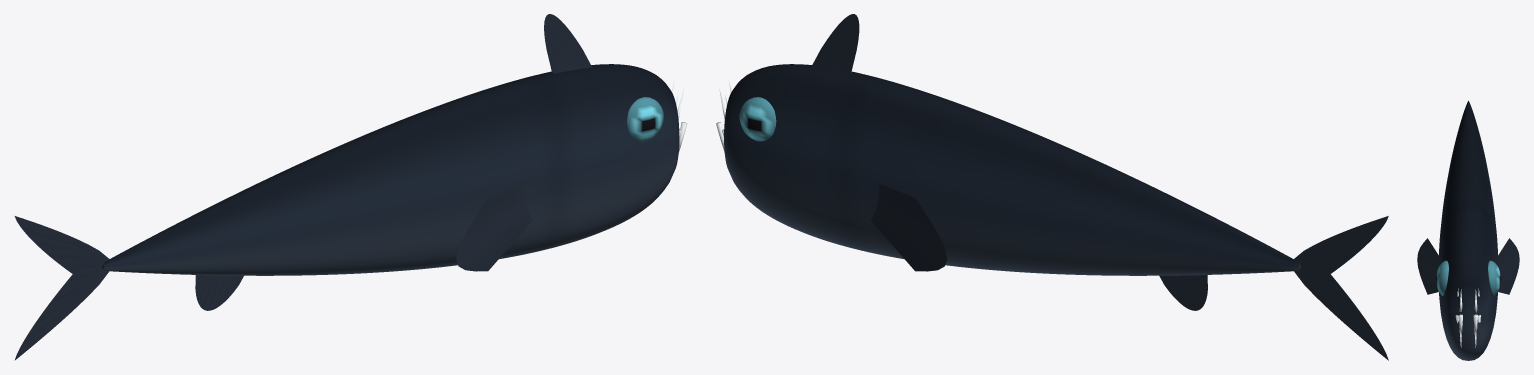
The model's file is engerek.glb.
The picture shows the model from 3 angles, left to right: view 1: azimuth 30°, elevation 25°; view 2: azimuth 150°, elevation 25°; view 3: azimuth 270°, elevation 25°; orthographic projection. The views are drawn at different scales.
Parts seen in each view (by area): view 1: engerek_govde, engerek_kuyruk, engerek_gogusL, engerek_sirt, engerek_gozL, engerek_anal_a; view 2: engerek_govde, engerek_kuyruk, engerek_gogusR, engerek_sirt, engerek_gozR, engerek_anal_a; view 3: engerek_govde, engerek_gogusL, engerek_gogusR, engerek_dis, engerek_gozL, engerek_gozR.
Part boxes in pixels (x1,y1,x2,y2): engerek_govde: (102, 64, 679, 275); engerek_kuyruk: (14, 216, 109, 360); engerek_gogusL: (456, 184, 532, 271); engerek_sirt: (544, 14, 591, 73); engerek_gozL: (627, 97, 663, 141); engerek_anal_a: (195, 275, 243, 310); engerek_govde: (724, 64, 1301, 275); engerek_kuyruk: (1294, 216, 1388, 360); engerek_gogusR: (871, 184, 947, 271); engerek_sirt: (811, 14, 859, 73); engerek_gozR: (739, 97, 776, 141); engerek_anal_a: (1159, 275, 1207, 310); engerek_govde: (1438, 101, 1498, 360); engerek_gogusL: (1417, 238, 1438, 294); engerek_gogusR: (1498, 238, 1519, 294); engerek_dis: (1455, 288, 1480, 347); engerek_gozL: (1436, 260, 1448, 295); engerek_gozR: (1488, 260, 1500, 295).
Bounding box in the file's own units: 0.9623 × 0.3194 × 0.1657.
